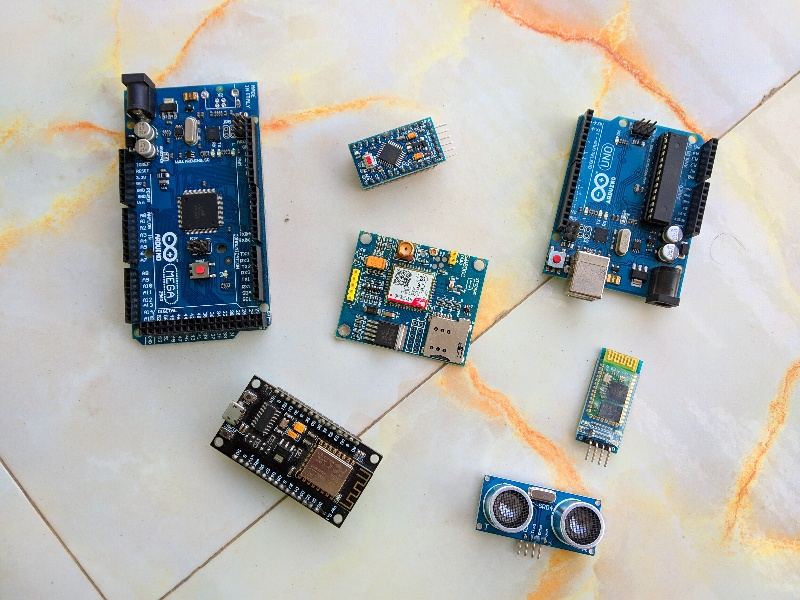Arduino Mega 2560: (111, 69, 281, 357)
Arduino Pro Mini: (343, 112, 464, 193)
Arduino UNO: (536, 104, 723, 316)
HC-05: (573, 342, 650, 463)
NodeMCU: (197, 371, 390, 536)
SIM800: (323, 227, 495, 372)
Sonar Sensor: (468, 470, 614, 573)
